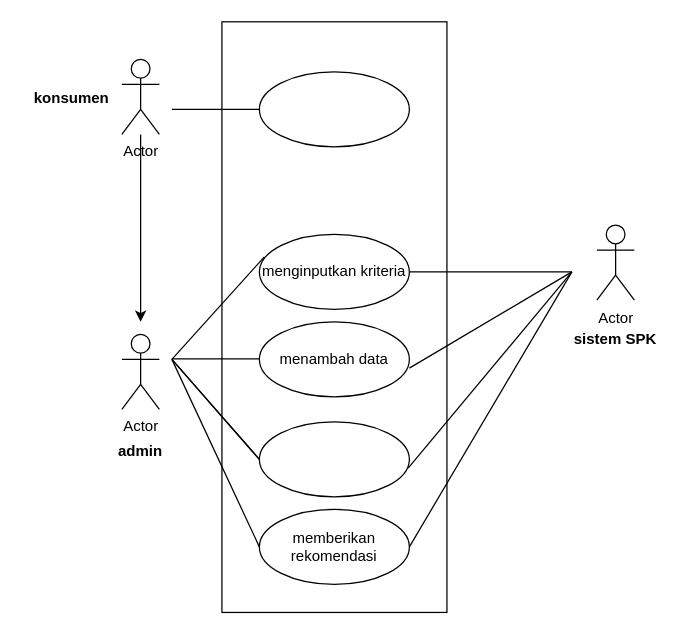
Some shapes in this 686 by 635 pixel diagram are drawn without their labels. The shapes that lost their labels are listed below. From the top down, each one's centre as x and y in pixels, then its label:
At (x=333, y=109): "meminta rekomendasi produk".
At (x=333, y=459): "menghapus data".
